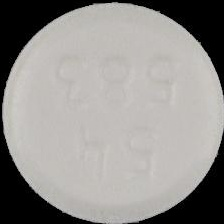68788-1966: (0, 0, 224, 224)
